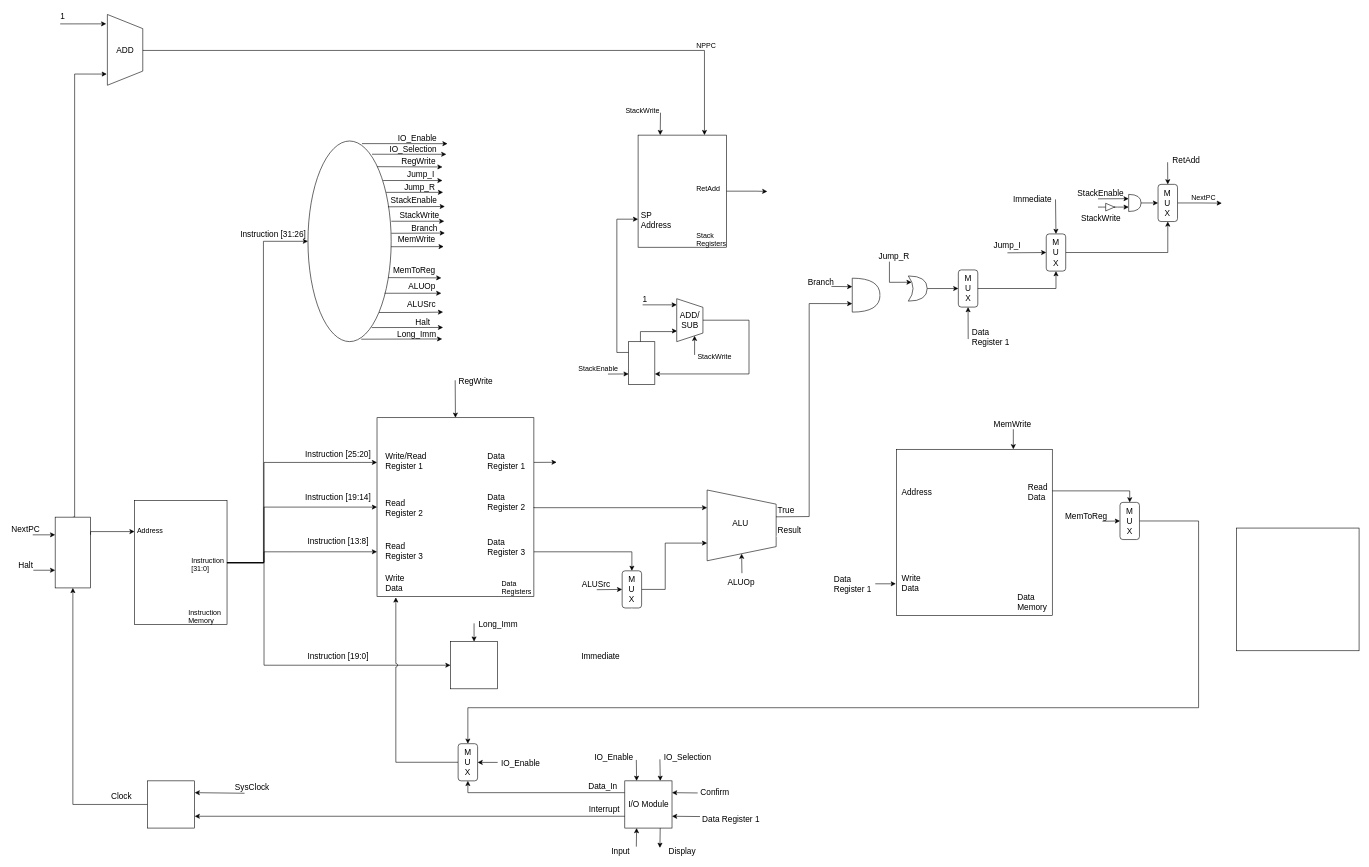
The diagram is 1369 pixels wide and 867 high, and some of its shapes have lost their labels. Here are the shapes that lost their labels. From the top down, the box of each, then its label:
(307, 140, 391, 342): Control
(628, 341, 655, 385): SP
(55, 517, 91, 588): PC
(450, 641, 498, 689): Extend
(147, 780, 195, 828): Clock Manager
